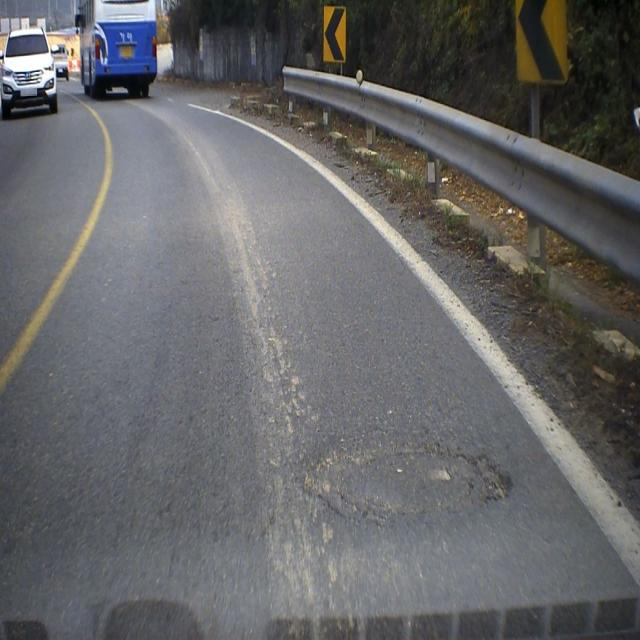Pothole: (297, 436, 518, 535)
